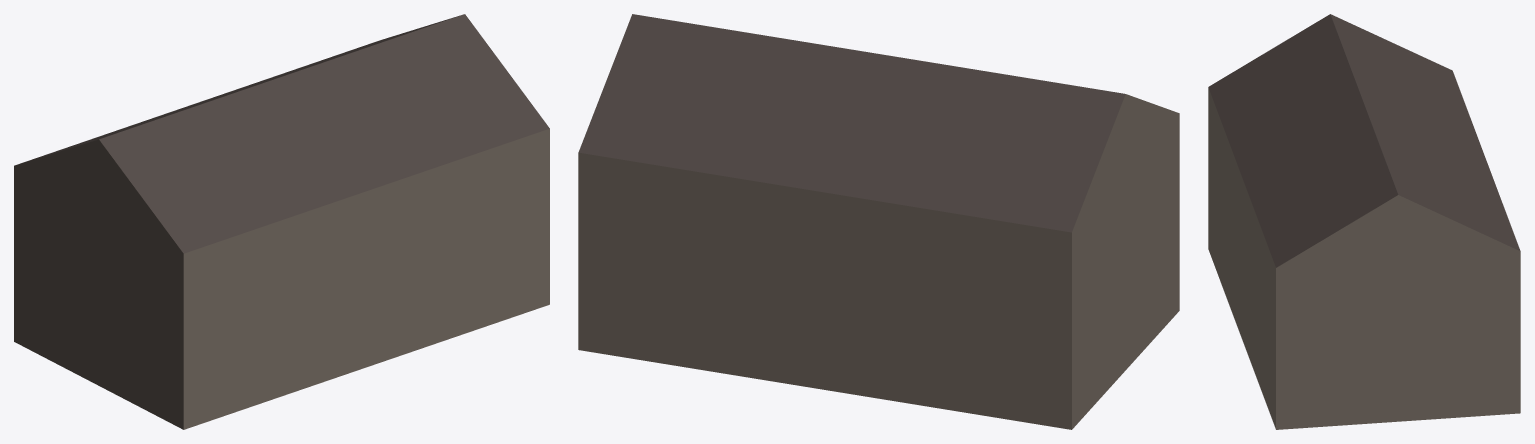
3 renders of one model, left to right at view 1: azimuth 30°, elevation 25°; view 2: azimuth 150°, elevation 25°; view 3: azimuth 270°, elevation 25°, orthographic. The views are drawn at different scales.
Parts seen in each view (by area): view 1: HP-w449041504; view 2: HP-w449041504; view 3: HP-w449041504.
Boxes of the visible parts, x1,y1,x2,y2 form: HP-w449041504: (14, 14, 549, 429); HP-w449041504: (578, 14, 1179, 429); HP-w449041504: (1208, 14, 1520, 429).
Bounding box in the file's own units: 23.54 × 12.6 × 15.73.
